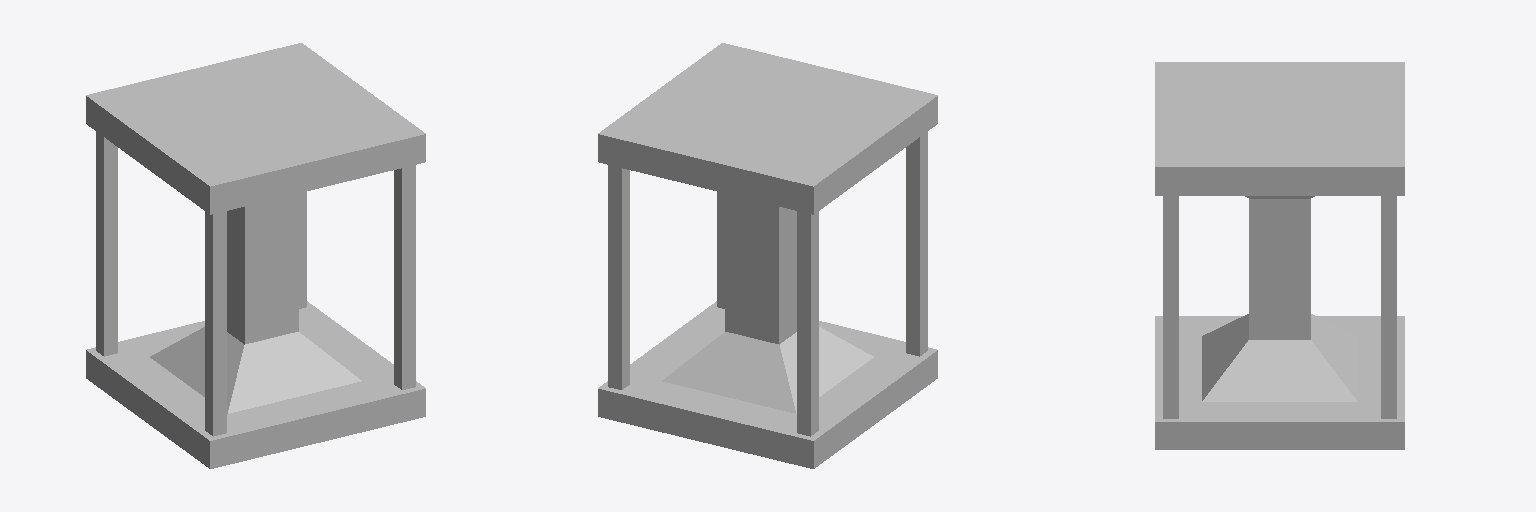
Rendered from radiant_tank.obj.
The picture shows the model from 3 angles: view 1: azimuth 30°, elevation 25°; view 2: azimuth 150°, elevation 25°; view 3: azimuth 270°, elevation 25°; orthographic projection.
Visible parts, largest first — view 1: Base, Struts, Crystal; view 2: Base, Struts, Crystal; view 3: Base, Crystal, Struts.
Part boxes in pixels (x1,y1,x2,y2): Base: (86, 43, 425, 468); Struts: (96, 132, 415, 436); Crystal: (227, 193, 298, 344); Base: (598, 43, 937, 468); Struts: (608, 132, 927, 436); Crystal: (725, 193, 796, 344); Base: (1155, 62, 1404, 449); Crystal: (1249, 199, 1310, 339); Struts: (1163, 196, 1396, 418).
Size of the model in its own units: 0.7874 by 0.9843 by 0.7874.